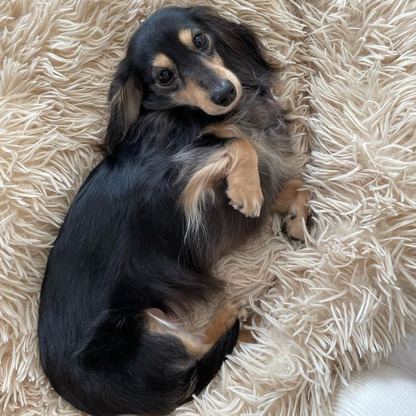dachshund: (42, 2, 347, 406)
